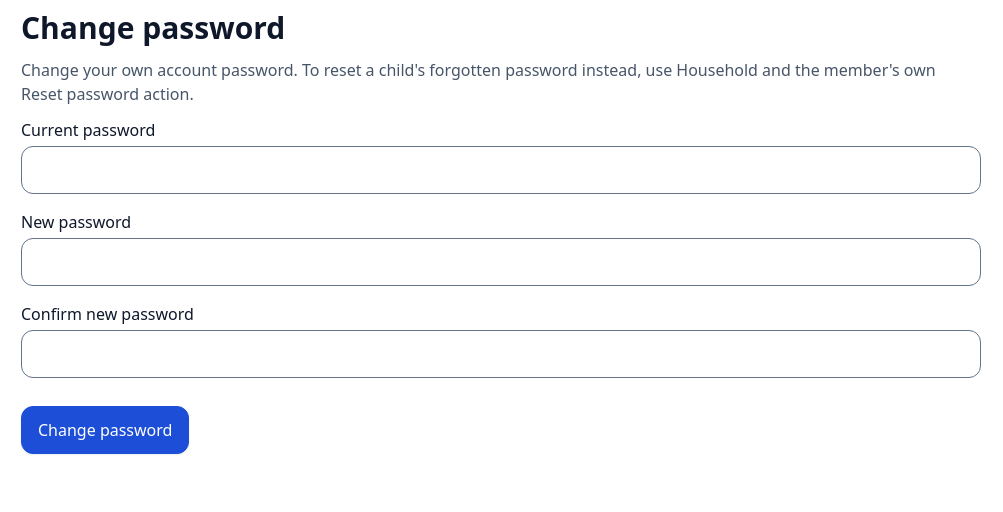
Test: local validation › refuses an empty submission with no request, focused on the current-password field
The width and height of the screenshot is (1003, 512).
Click the button "Change password" at (105, 430), box [21, 406, 189, 454]
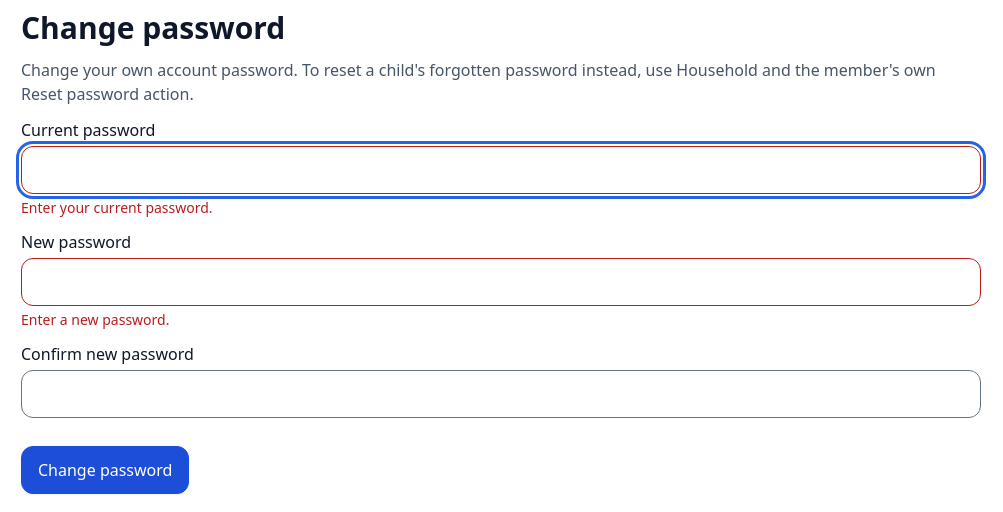
Now the text "Enter your current password." is shown, box [21, 198, 213, 217]
Now the text "Enter a new password." is shown, box [21, 310, 169, 329]
